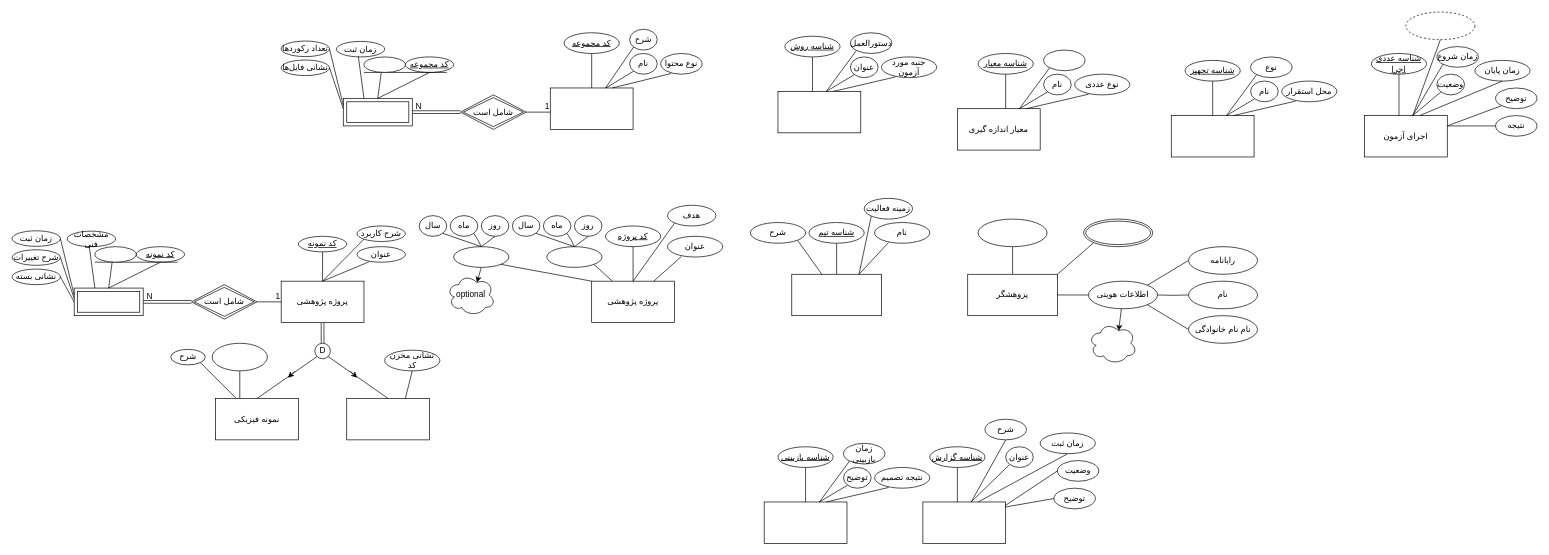
Image size: 1549x555. Some labels were removed from this diagram. Here are the shapes that lost their labels. From the top down, the box of each, then its label:
(1405, 11, 1475, 40): وضعیت قبولی
(363, 56, 405, 72): شماره داده
(1043, 49, 1085, 71): دامنه مجاز
(343, 98, 412, 126): نسخه داده
(550, 87, 633, 129): مجموعه داده
(777, 91, 861, 133): روش آزمون
(1171, 115, 1254, 157): تجهیز
(977, 218, 1047, 247): شناسه پژوهشگر
(1083, 218, 1153, 247): شماره تلفن
(94, 246, 136, 262): شماره نسخه
(453, 246, 509, 267): ددلاین پروژه
(546, 246, 602, 267): تاریخ شروع
(73, 287, 143, 316): نسخه نمونه
(791, 274, 881, 316): تیم
(211, 343, 267, 371): شناسه واحد فیزیکی
(1088, 322, 1137, 364): not null unique
(346, 398, 430, 440): نمونه نرم افزاری
(763, 501, 847, 543): بازبینی
(922, 501, 1006, 543): گزارش مشکل
